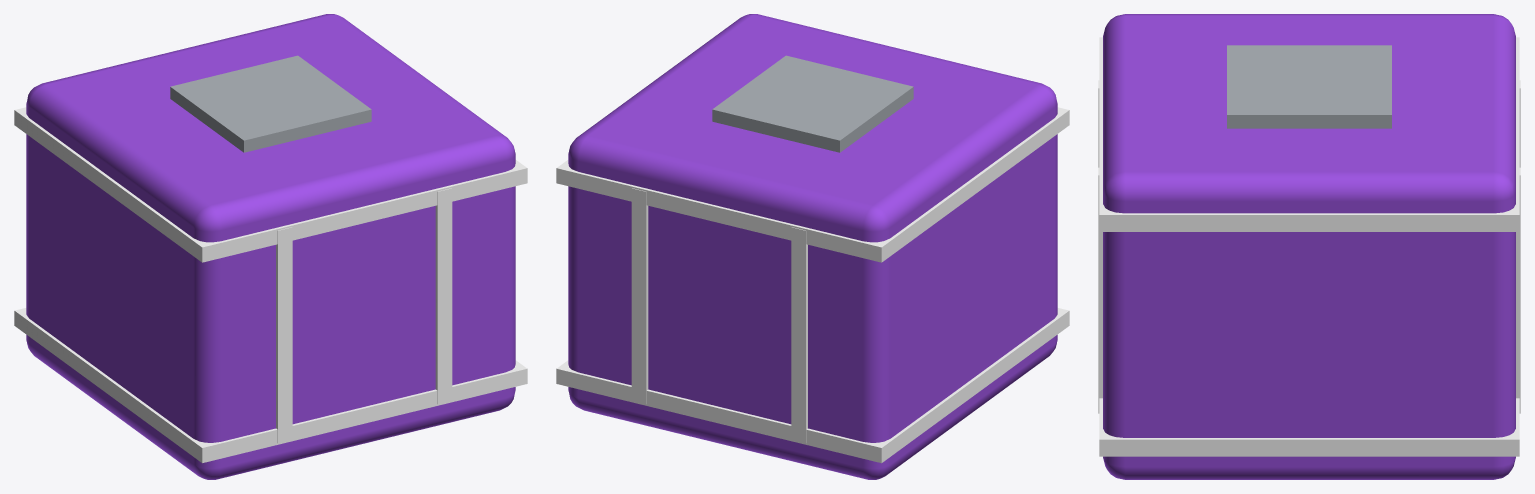
File: POWER_MAGNET.glb
The picture shows the model from 3 angles, left to right: view 1: azimuth 30°, elevation 25°; view 2: azimuth 150°, elevation 25°; view 3: azimuth 270°, elevation 25°; orthographic projection. The views are drawn at different scales.
Parts seen in each view (by area): view 1: paint_0, lamps_2, steel_1; view 2: paint_0, lamps_2, steel_1; view 3: paint_0, lamps_2, steel_1.
Boxes of the visible parts, bbox=[...] form: paint_0: bbox=[26, 14, 515, 479]; lamps_2: bbox=[14, 107, 527, 463]; steel_1: bbox=[170, 55, 371, 152]; paint_0: bbox=[568, 14, 1057, 479]; lamps_2: bbox=[556, 107, 1069, 463]; steel_1: bbox=[712, 55, 913, 152]; paint_0: bbox=[1103, 14, 1515, 479]; lamps_2: bbox=[1098, 37, 1520, 456]; steel_1: bbox=[1227, 45, 1391, 128].
Bounding box in the file's own units: 0.56 × 0.47 × 0.562.
